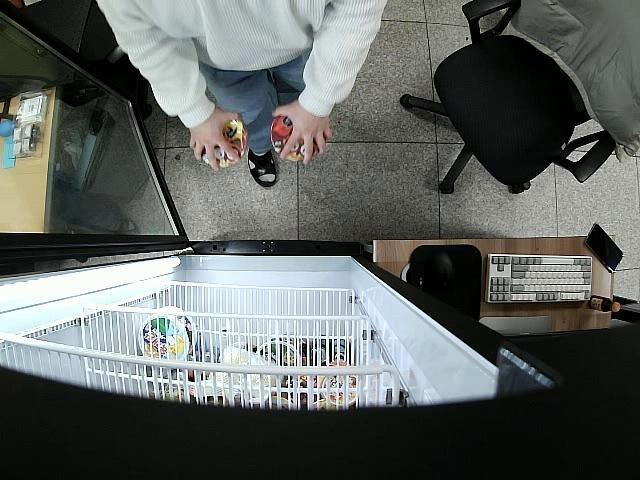05_nuguri_L: (270, 112, 324, 162), (198, 118, 248, 168)
